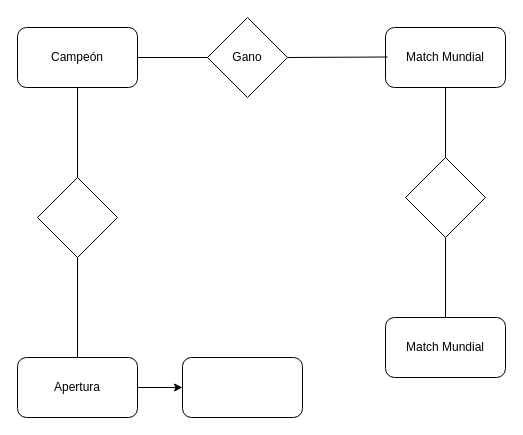
Some shapes in this 523 by 435 pixel diagram are drawn without their labels. Each missing label, with the centre of its shape:
Defensa: the point at 242,387
Jugaba: the point at 77,217
Perdio: the point at 445,197
